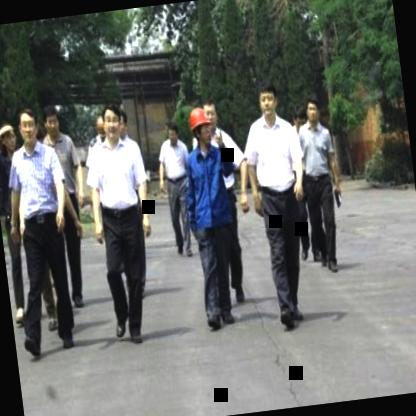head: (12, 103, 41, 149), (255, 80, 283, 122), (97, 102, 123, 140), (200, 95, 221, 136), (39, 104, 62, 140), (0, 116, 18, 154), (303, 95, 324, 124), (164, 115, 182, 148), (92, 110, 110, 142), (291, 102, 308, 132)
helmet: (186, 105, 215, 149)
